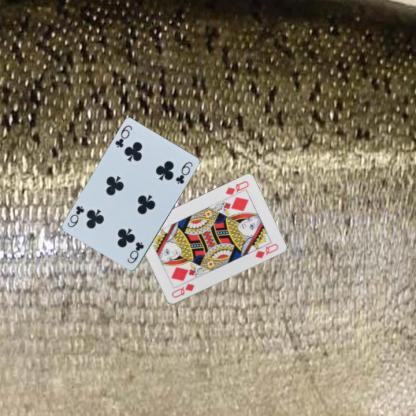6c: (112, 123, 134, 149), (125, 239, 145, 265)
Qd: (222, 178, 250, 200), (169, 281, 196, 299)
